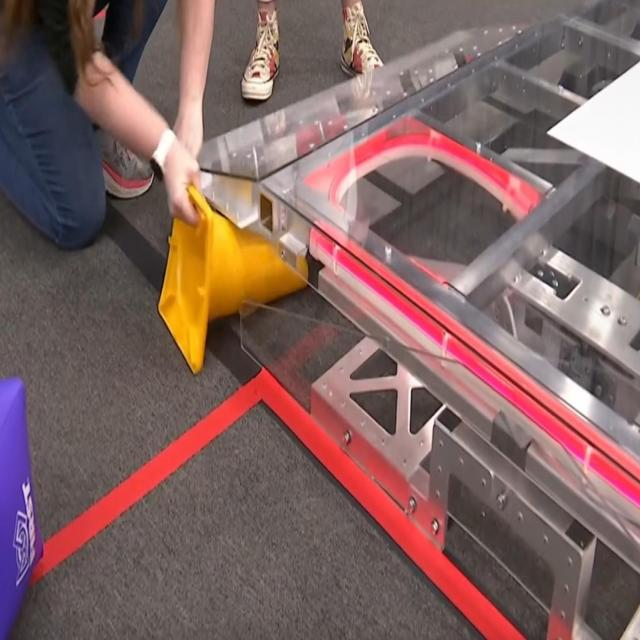frc_cone: (155, 174, 316, 388)
frc_cube: (0, 372, 43, 640)
